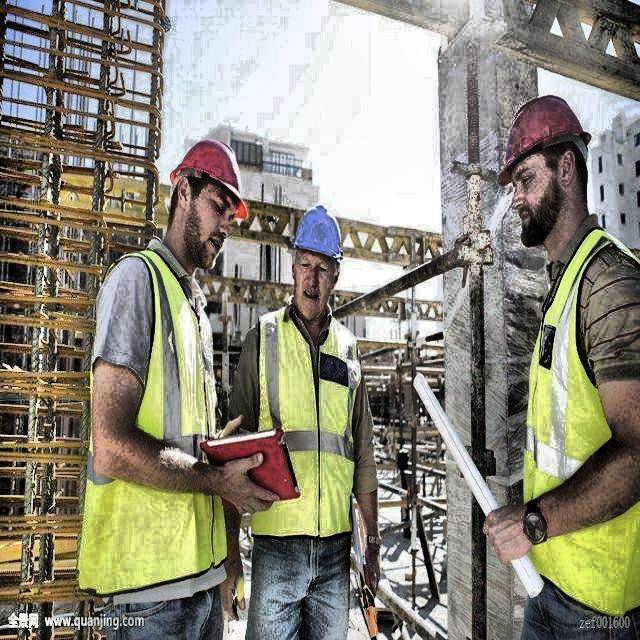person: (484, 82, 640, 638), (88, 130, 241, 634), (246, 191, 374, 640)
